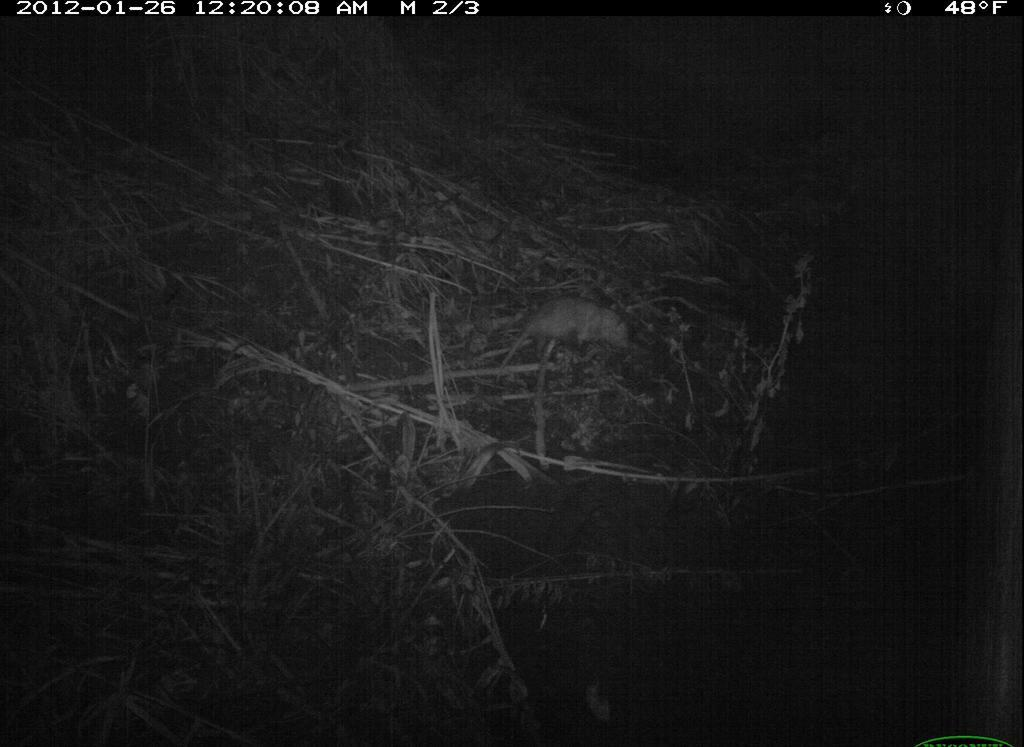opossum: (486, 281, 642, 381)
